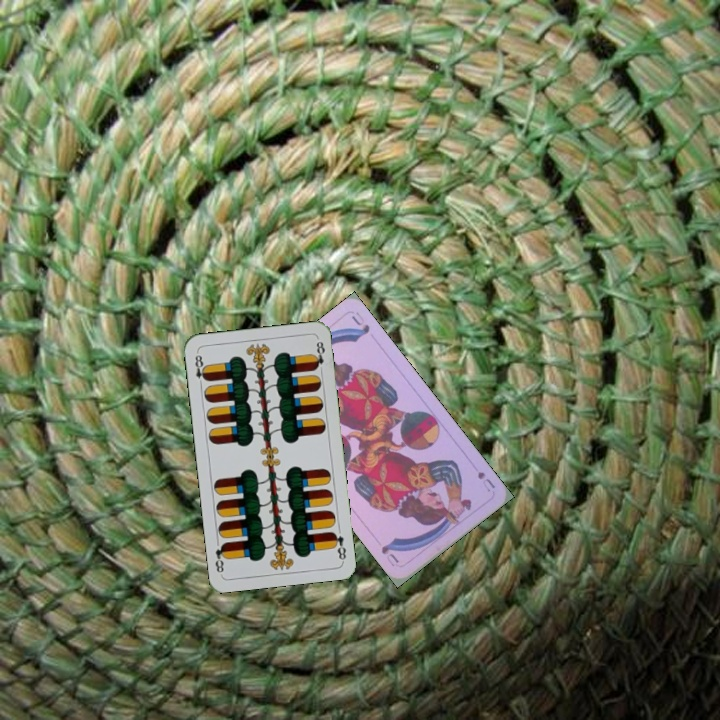E8: (191, 349, 210, 389), (328, 528, 348, 563)
SU: (473, 467, 498, 494)
